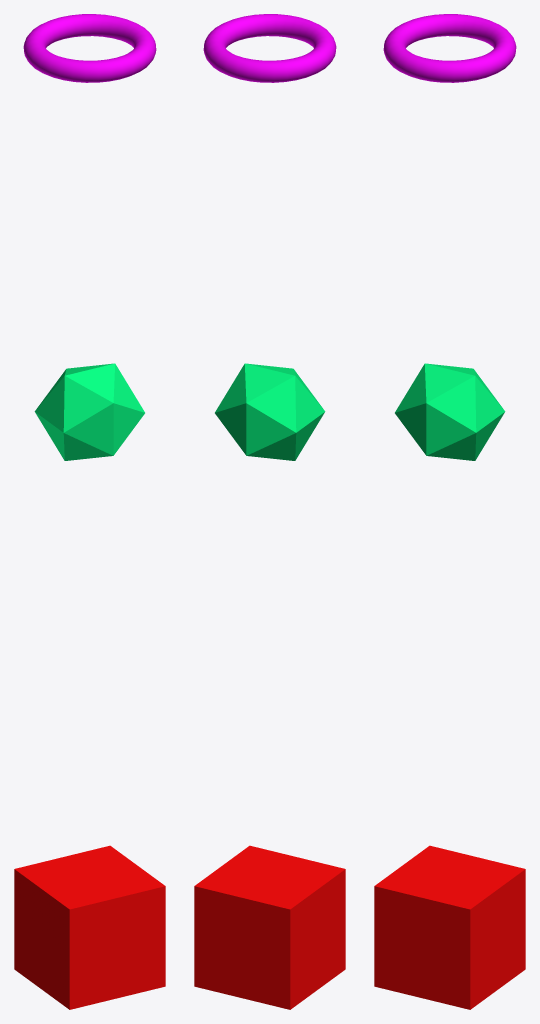
Rendered from shapes2.glb.
3 renders of one model, left to right at view 1: azimuth 30°, elevation 25°; view 2: azimuth 150°, elevation 25°; view 3: azimuth 330°, elevation 25°, orthographic.
Visible parts, largest first — view 1: Cube, Platonic, Torus; view 2: Cube, Platonic, Torus; view 3: Cube, Platonic, Torus.
Part boxes in pixels (<box>): Cube: <box>14,845,165,1009</box>; Platonic: <box>34,363,144,460</box>; Torus: <box>23,14,156,82</box>; Cube: <box>194,845,345,1009</box>; Platonic: <box>215,363,325,460</box>; Torus: <box>203,14,336,82</box>; Cube: <box>374,845,525,1009</box>; Platonic: <box>395,363,505,460</box>; Torus: <box>383,14,516,82</box>.
Size of the model in its own units: 240 by 1871 by 240.
